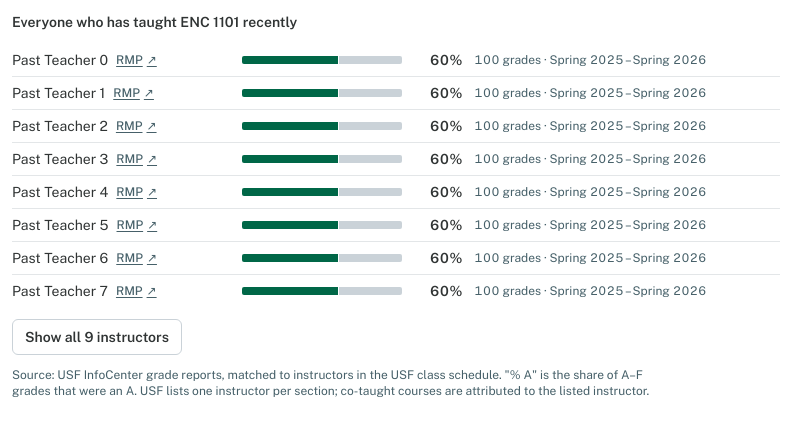
Test: historical instructor displays › links every named history row, including after expanding the list
Click the button "Show all 9 instructors" at point(97, 337), box [12, 319, 182, 355]
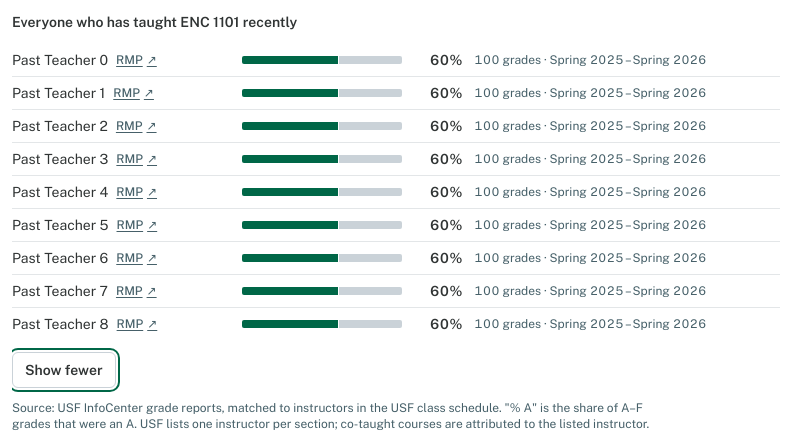
Result: the number of links is 9
